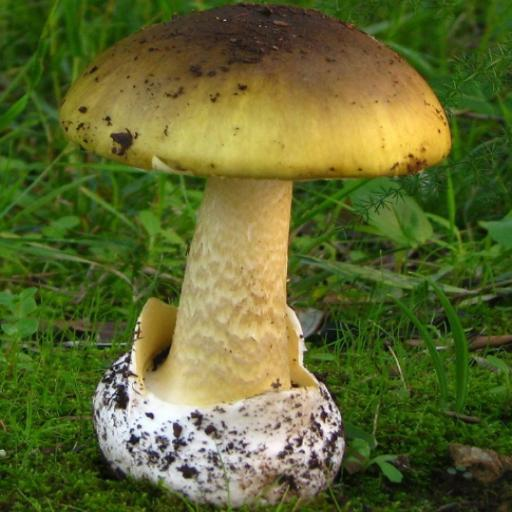mushroom: (51, 0, 487, 512)
